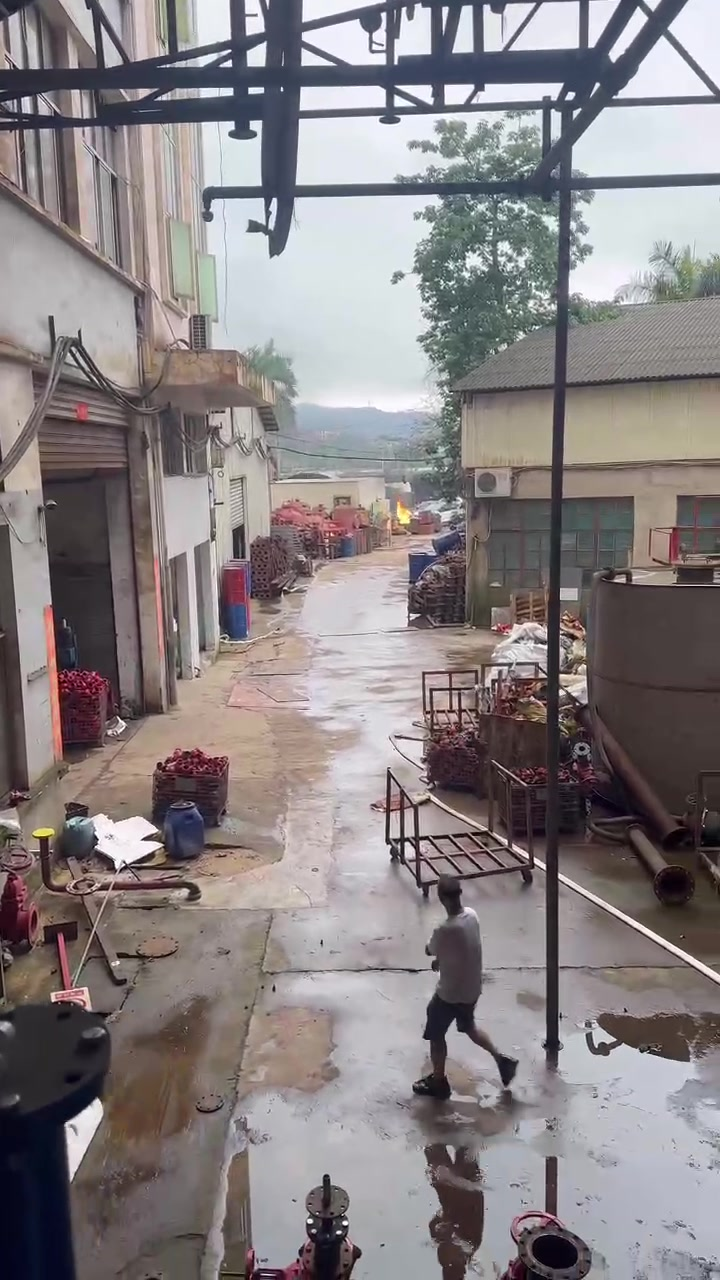fire: (395, 500, 411, 523)
